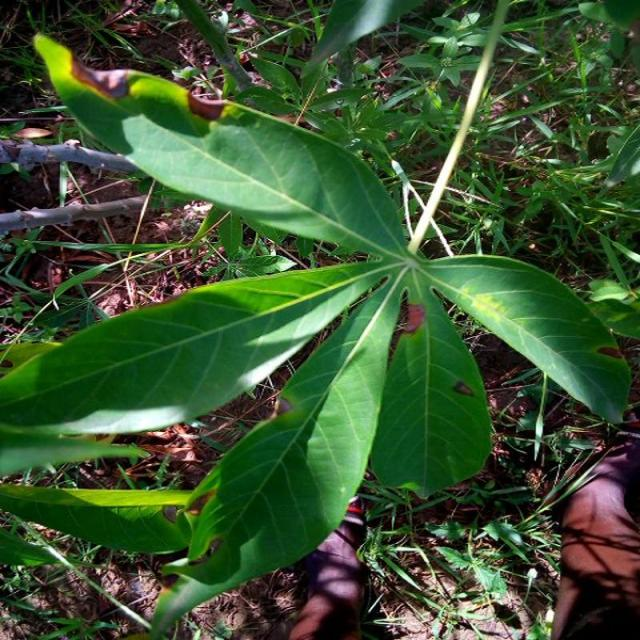cassava leaf: (1, 30, 632, 625)
